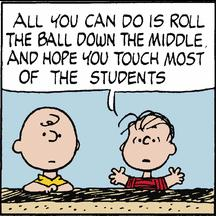charlie: (10, 103, 82, 193)
